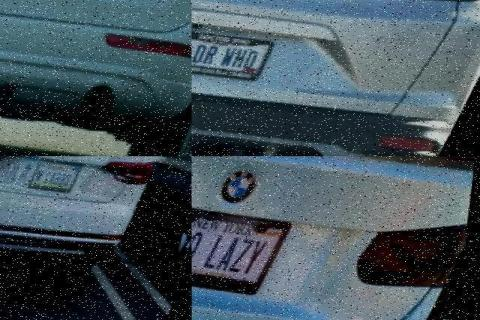LicensePlate: (190, 209, 295, 297), (190, 32, 278, 82), (24, 0, 107, 24)
